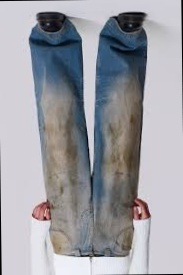earth: (48, 119, 77, 167), (115, 115, 138, 174)
